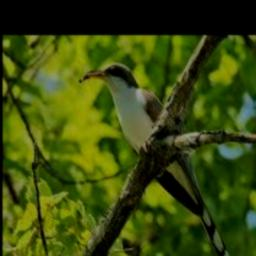Cuckoo: (83, 63, 233, 256)
